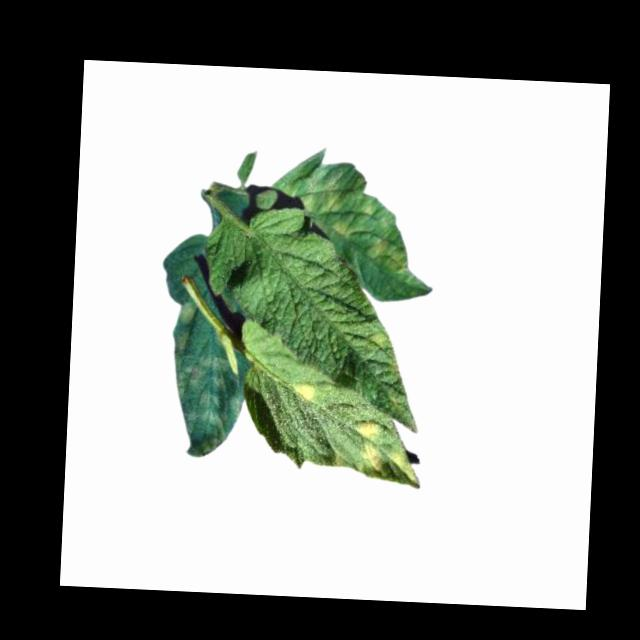Leaf_Mold: (277, 163, 418, 277), (166, 301, 249, 459), (348, 417, 423, 490), (357, 327, 390, 357), (289, 377, 317, 402)
